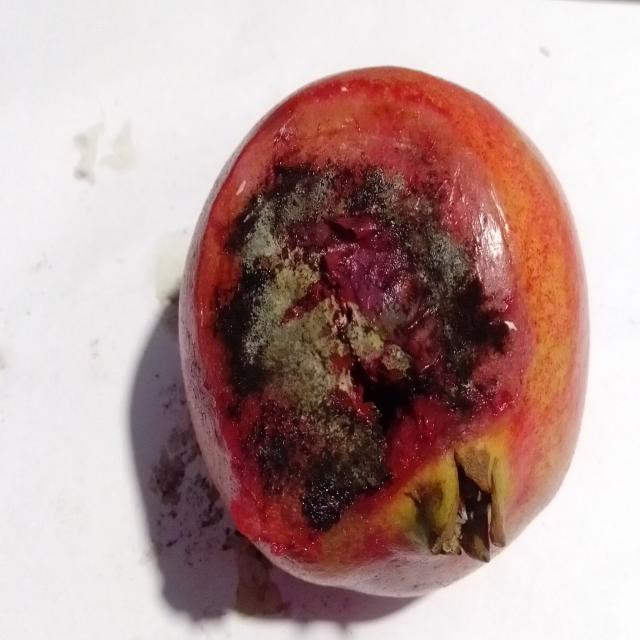Rotten: (172, 62, 600, 603)
